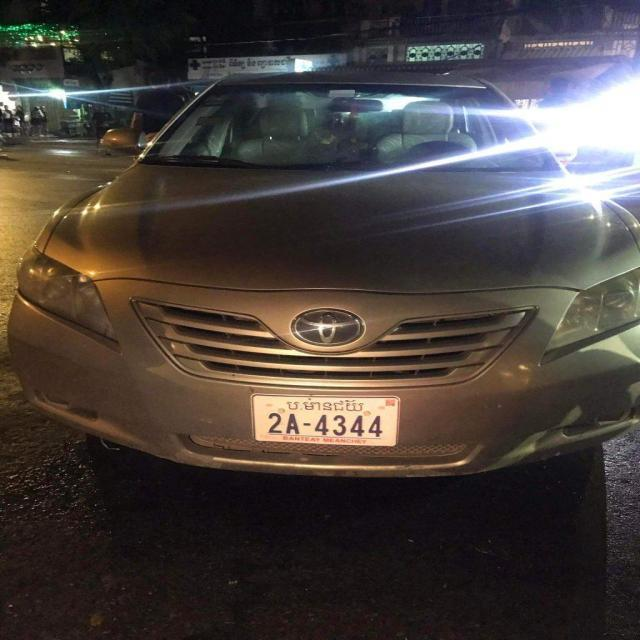Banteay_Meanchey: (288, 398, 367, 414)
